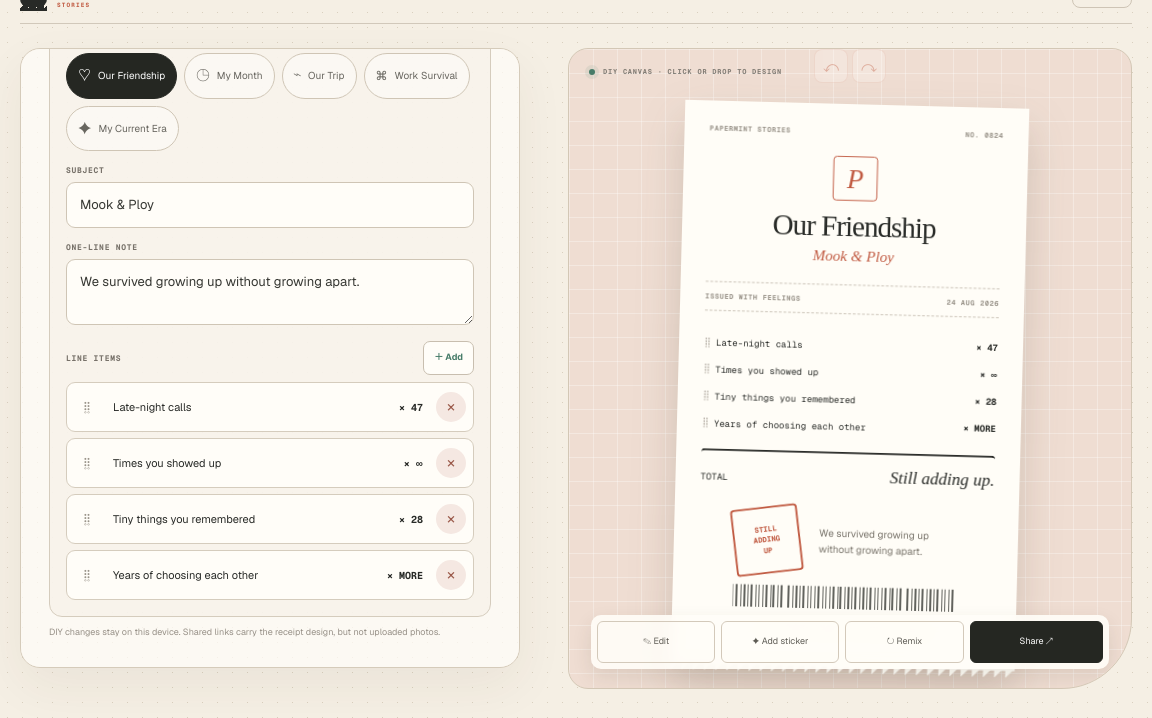
line items › add appends a row to the receipt
(page scrolled)
Click the button "＋ Add": [449, 358] box [423,341,474,375]
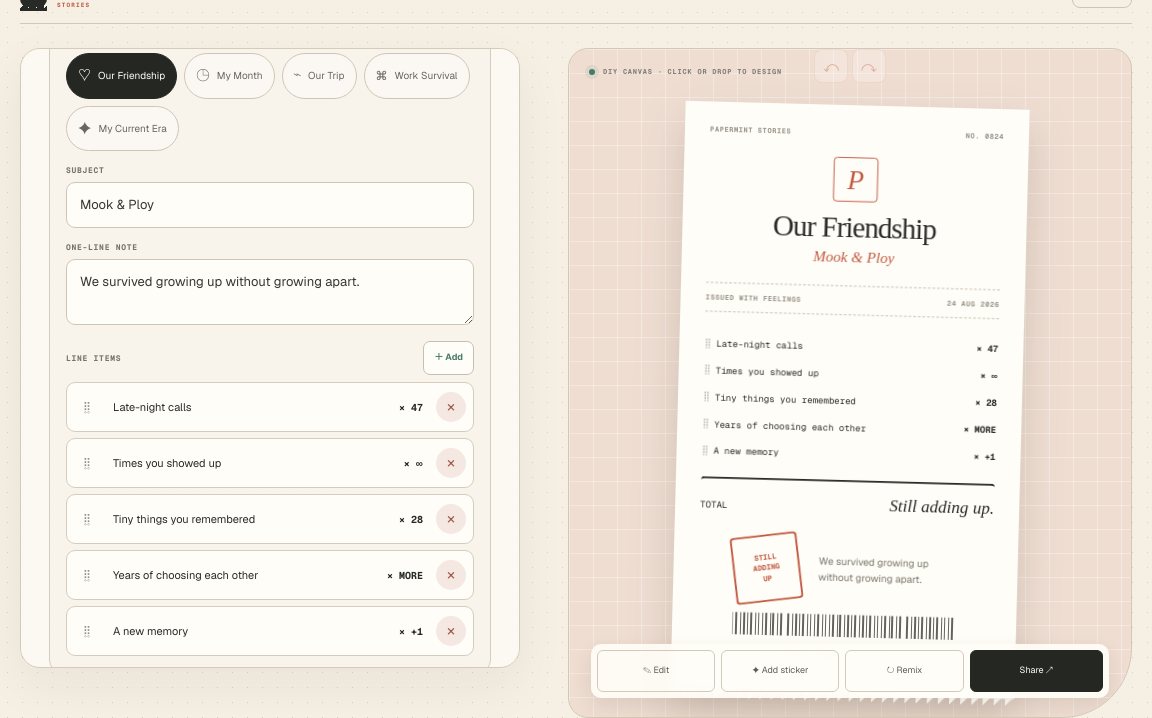
Now the element with id "story-receipt" shows "A new memory", box [713,445,779,459]
